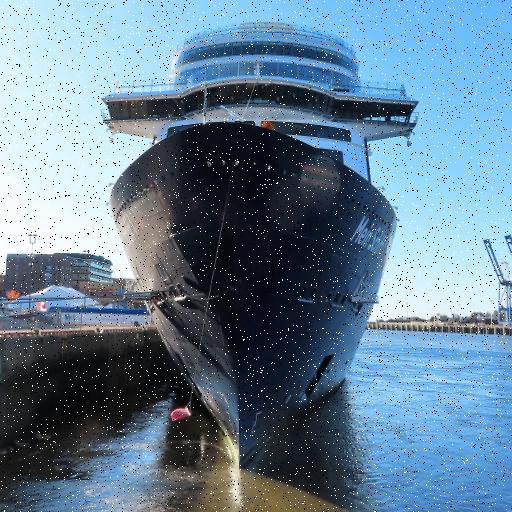cruises: (90, 7, 433, 482)
